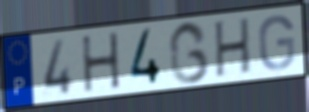4: (128, 26, 163, 88), (41, 38, 75, 97)
G: (167, 19, 211, 86), (257, 13, 297, 72)
H: (79, 30, 123, 95), (214, 15, 252, 81)
